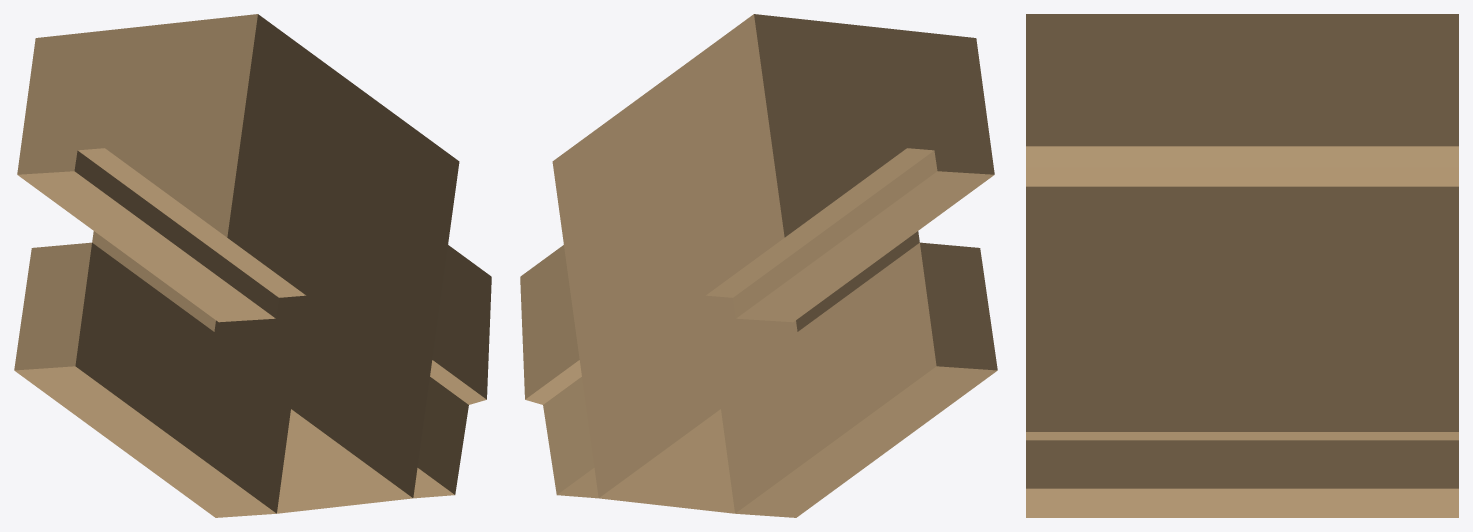
3 renders of one model, left to right at view 1: azimuth 30°, elevation 25°; view 2: azimuth 150°, elevation 25°; view 3: azimuth 270°, elevation 25°, orthographic. The views are drawn at different scales.
Parts seen in each view (by area): view 1: 0_3_0_1_1_3_1_1_1; view 2: 0_3_0_1_1_3_1_1_1; view 3: 0_3_0_1_1_3_1_1_1.
Boxes of the visible parts, box(x1,y1,x2,y2) form: 0_3_0_1_1_3_1_1_1: box(14, 14, 491, 517); 0_3_0_1_1_3_1_1_1: box(520, 14, 997, 517); 0_3_0_1_1_3_1_1_1: box(1026, 14, 1458, 517).
Size of the model in its own units: 18.99 by 23.84 by 24.
